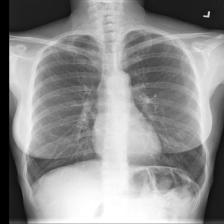normal: (22, 30, 208, 200)
